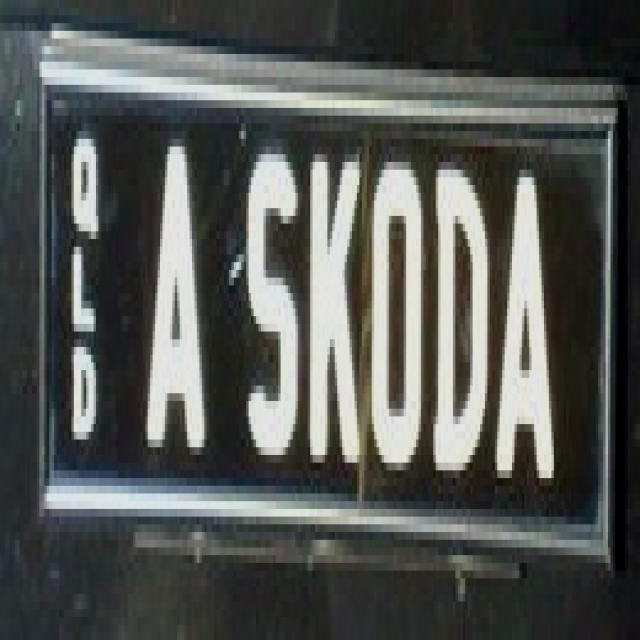licenseplate: (27, 34, 623, 594)
